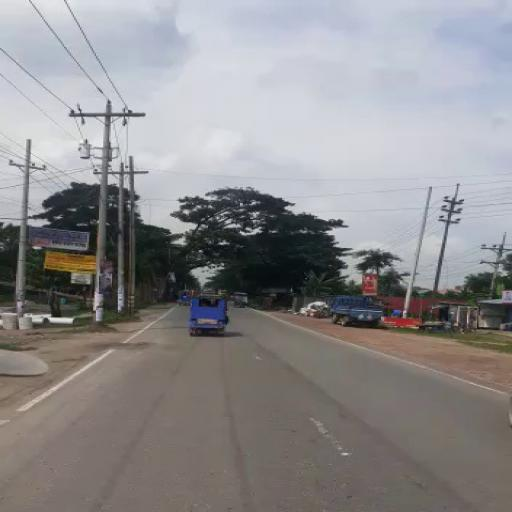auto rickshaw: (187, 295, 228, 333)
pickup: (328, 294, 384, 326), (174, 289, 193, 304), (232, 291, 250, 306)
